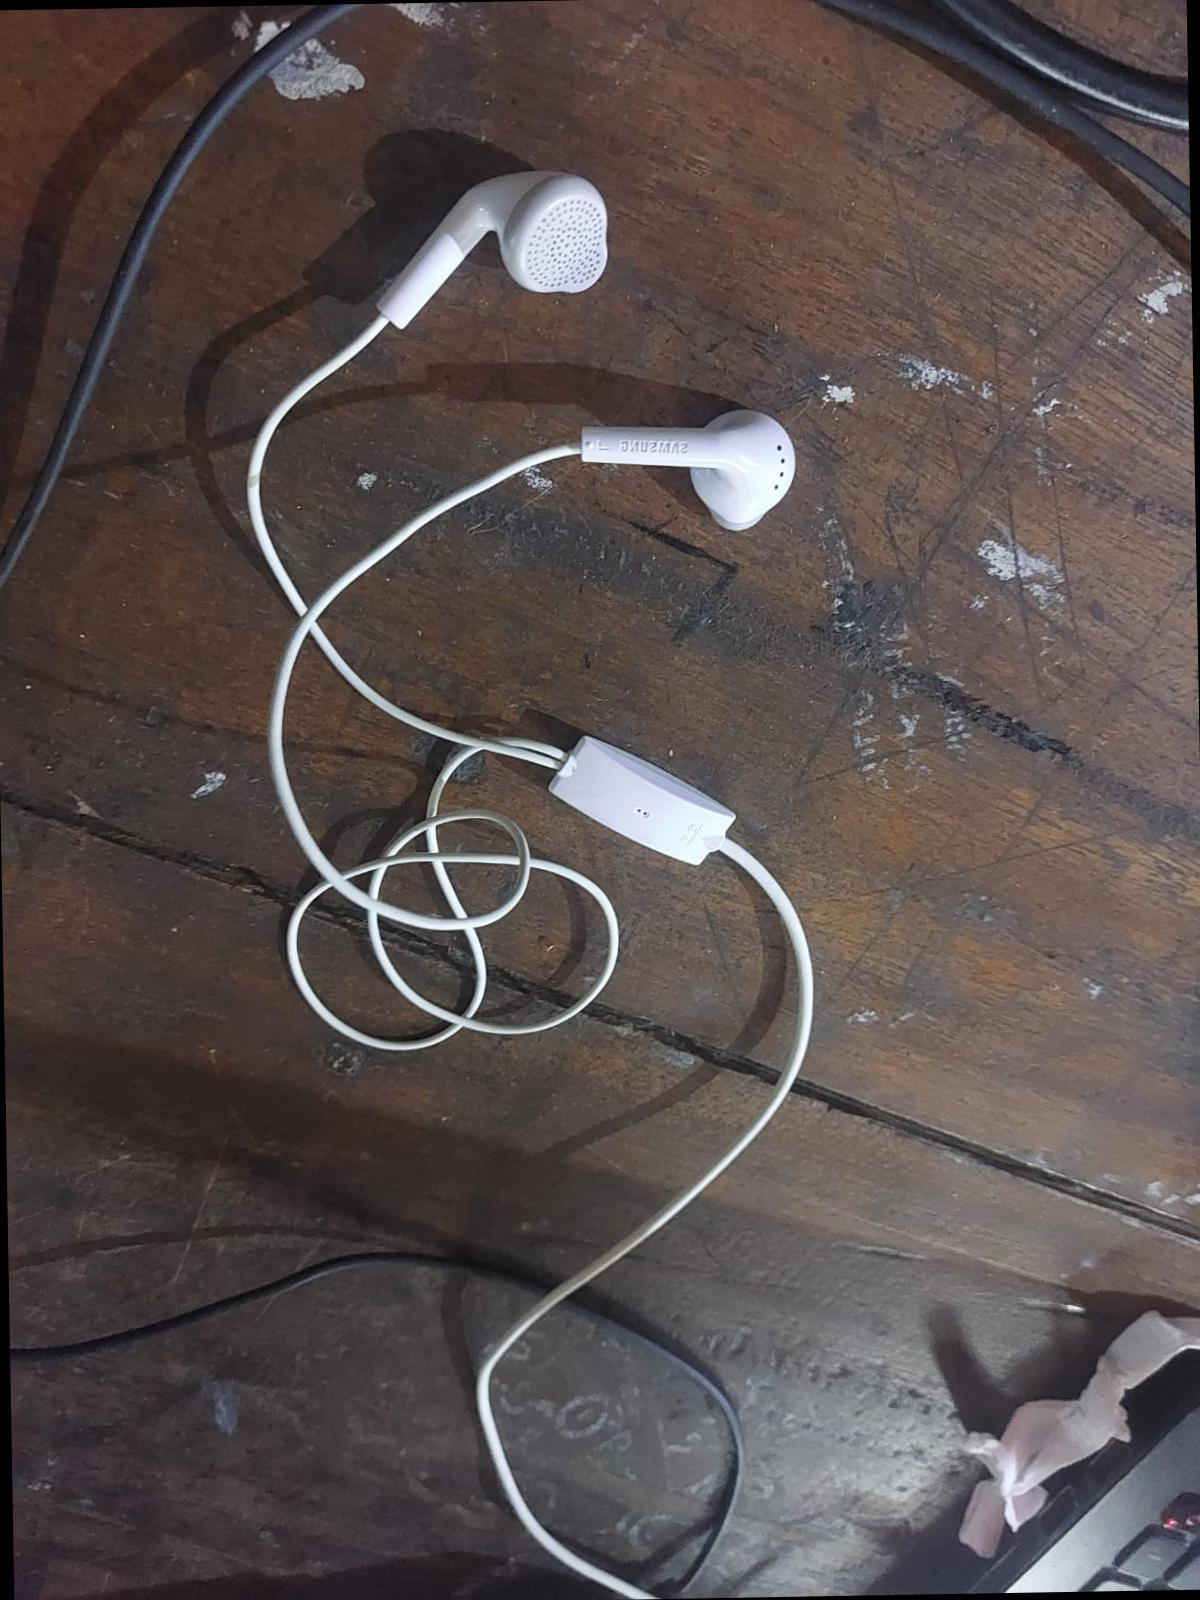Earphone: (556, 373, 827, 574), (344, 157, 644, 338)
